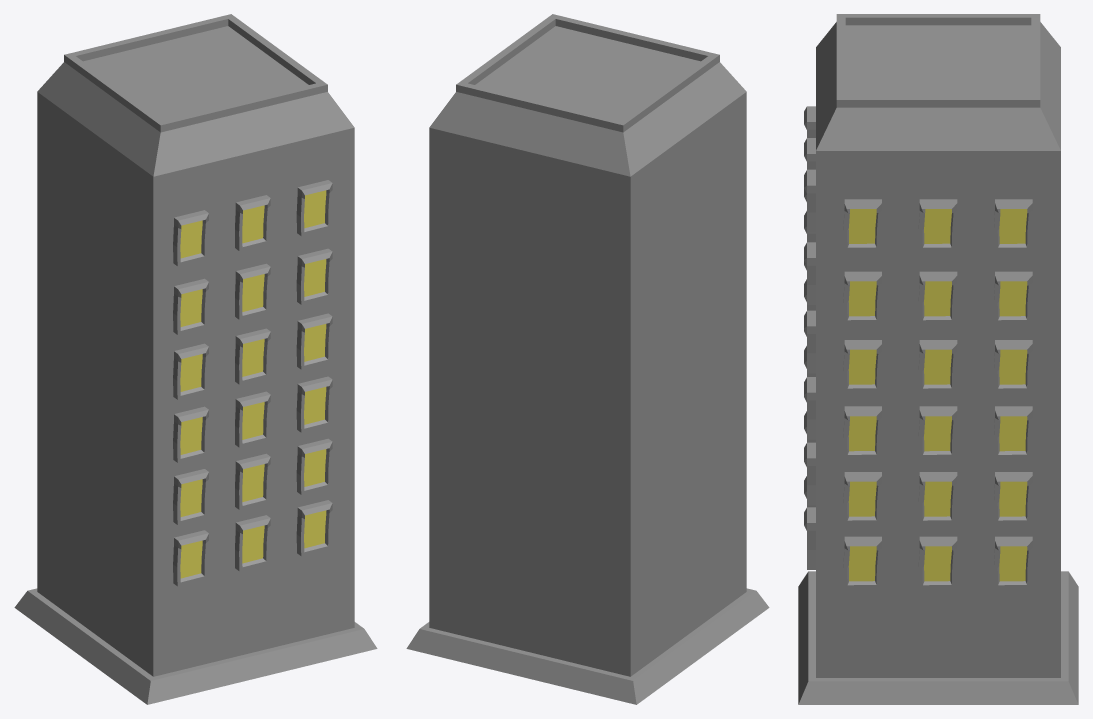
The model's file is SM_Building_BG_02.fbx.
The picture shows the model from 3 angles, left to right: view 1: azimuth 30°, elevation 25°; view 2: azimuth 150°, elevation 25°; view 3: azimuth 270°, elevation 25°; orthographic projection. The views are drawn at different scales.
Visible parts, largest first — view 1: SM_BG_Building_02; view 2: SM_BG_Building_02; view 3: SM_BG_Building_02.
Boxes of the visible parts, <box> form: SM_BG_Building_02: <box>14,14,377,704</box>; SM_BG_Building_02: <box>406,14,769,704</box>; SM_BG_Building_02: <box>798,14,1078,704</box>.
Size of the model in its own units: 283 by 283 by 656.
